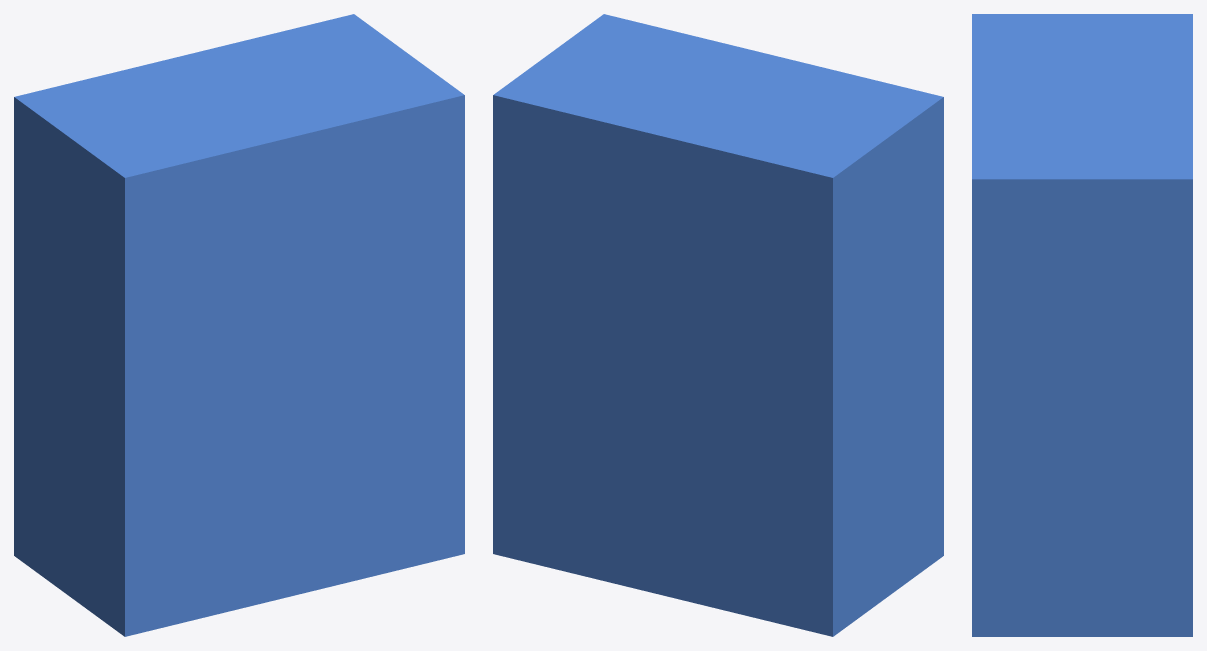
The picture shows the model from 3 angles, left to right: view 1: azimuth 30°, elevation 25°; view 2: azimuth 150°, elevation 25°; view 3: azimuth 270°, elevation 25°; orthographic projection.
Visible parts, largest first — view 1: NM1-1250S_3300_800A; view 2: NM1-1250S_3300_800A; view 3: NM1-1250S_3300_800A.
Boxes of the visible parts, x1,y1,x2,y2 form: NM1-1250S_3300_800A: (14, 14, 464, 636); NM1-1250S_3300_800A: (493, 14, 943, 636); NM1-1250S_3300_800A: (972, 14, 1192, 636).
Bounding box in the file's own units: 310 × 400 × 175.
